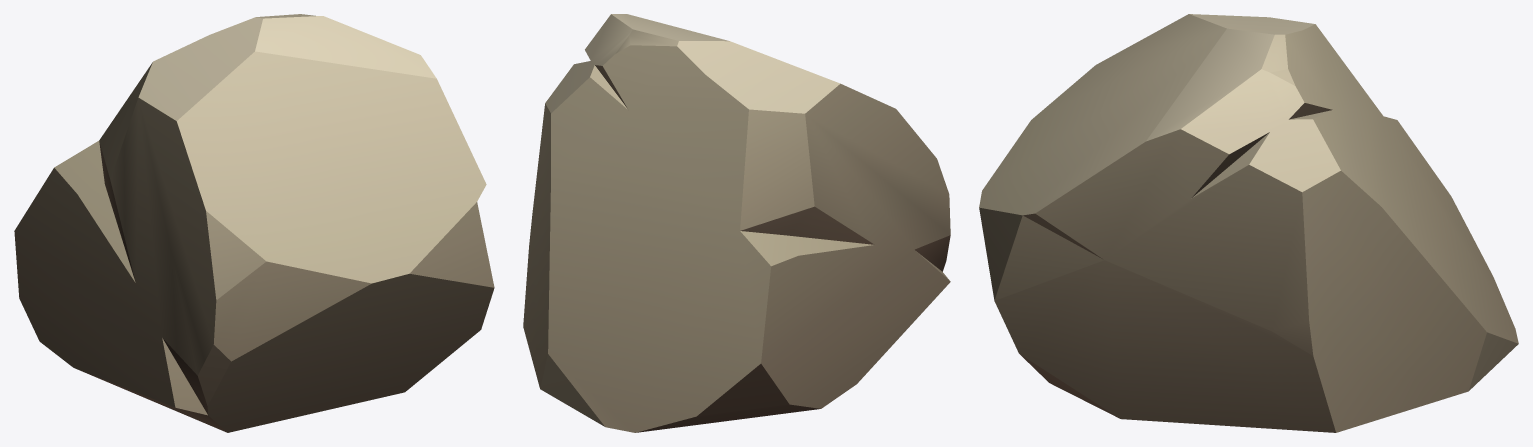
The model's file is Rock_Large_2A.fbx.
The picture shows the model from 3 angles, left to right: view 1: azimuth 30°, elevation 25°; view 2: azimuth 150°, elevation 25°; view 3: azimuth 270°, elevation 25°; orthographic projection. The views are drawn at different scales.
Visible parts, largest first — view 1: Rock_Large_2A; view 2: Rock_Large_2A; view 3: Rock_Large_2A.
Part boxes in pixels (<box>): Rock_Large_2A: <box>14,14,494,432</box>; Rock_Large_2A: <box>523,14,950,432</box>; Rock_Large_2A: <box>979,14,1518,432</box>.
Bounding box in the file's own units: 391 × 354 × 526.
